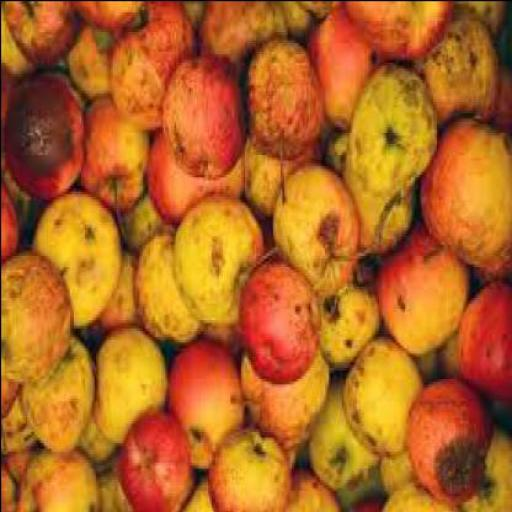biodegradable: (1, 2, 511, 511), (418, 115, 511, 283), (30, 193, 125, 333), (245, 37, 322, 207), (274, 165, 361, 303), (176, 199, 266, 330), (350, 67, 439, 199), (324, 131, 416, 258), (404, 383, 496, 509), (376, 235, 470, 358), (114, 3, 197, 134), (147, 123, 248, 227), (164, 56, 247, 179), (169, 342, 246, 473), (6, 73, 86, 199), (307, 14, 391, 132), (2, 249, 74, 386), (344, 344, 426, 462), (243, 347, 331, 453), (423, 17, 503, 131), (91, 333, 170, 447), (20, 347, 99, 455), (307, 378, 380, 492), (136, 229, 205, 347), (82, 100, 149, 221), (117, 416, 196, 511), (342, 3, 454, 65), (202, 2, 288, 82), (210, 431, 293, 511), (95, 257, 160, 350), (462, 282, 510, 406), (242, 145, 316, 222), (2, 3, 85, 70), (322, 283, 382, 372), (16, 450, 103, 511), (8, 3, 82, 70), (463, 430, 511, 510), (98, 255, 144, 336), (69, 30, 116, 107), (2, 3, 41, 87), (122, 201, 172, 258), (72, 2, 143, 42), (2, 383, 35, 459), (284, 470, 345, 511), (380, 484, 466, 512), (452, 3, 509, 45), (2, 72, 24, 174), (379, 445, 421, 498), (2, 184, 26, 266), (96, 459, 133, 511), (197, 324, 246, 362), (78, 426, 118, 472), (490, 66, 511, 144), (3, 447, 45, 482), (178, 478, 218, 510), (2, 364, 20, 422), (440, 336, 462, 383), (296, 3, 339, 25), (2, 464, 19, 512), (349, 497, 389, 511)
